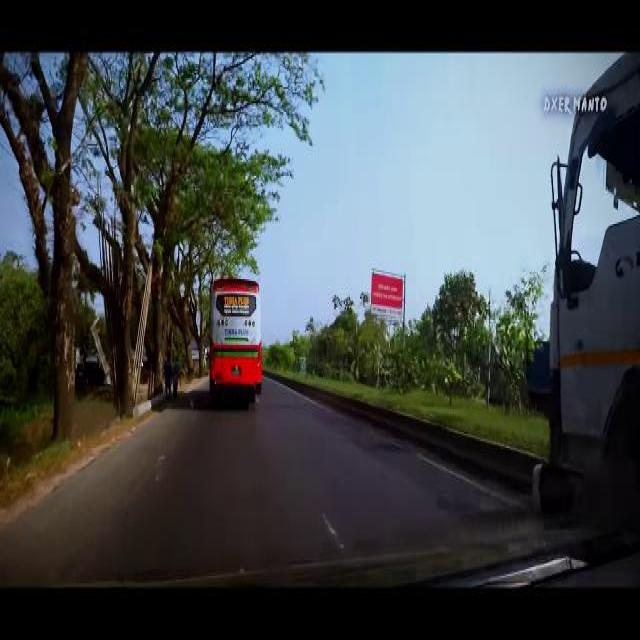bus: (207, 276, 263, 407)
